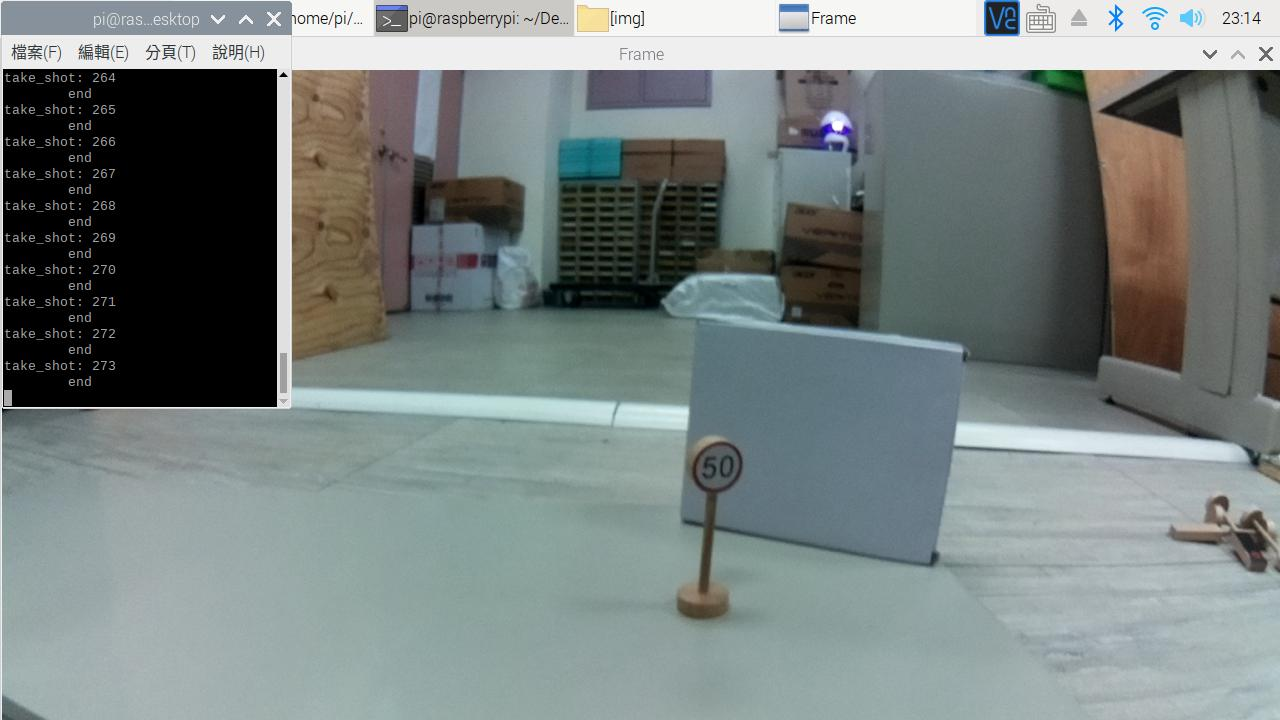Speed50: (666, 426, 772, 508)
